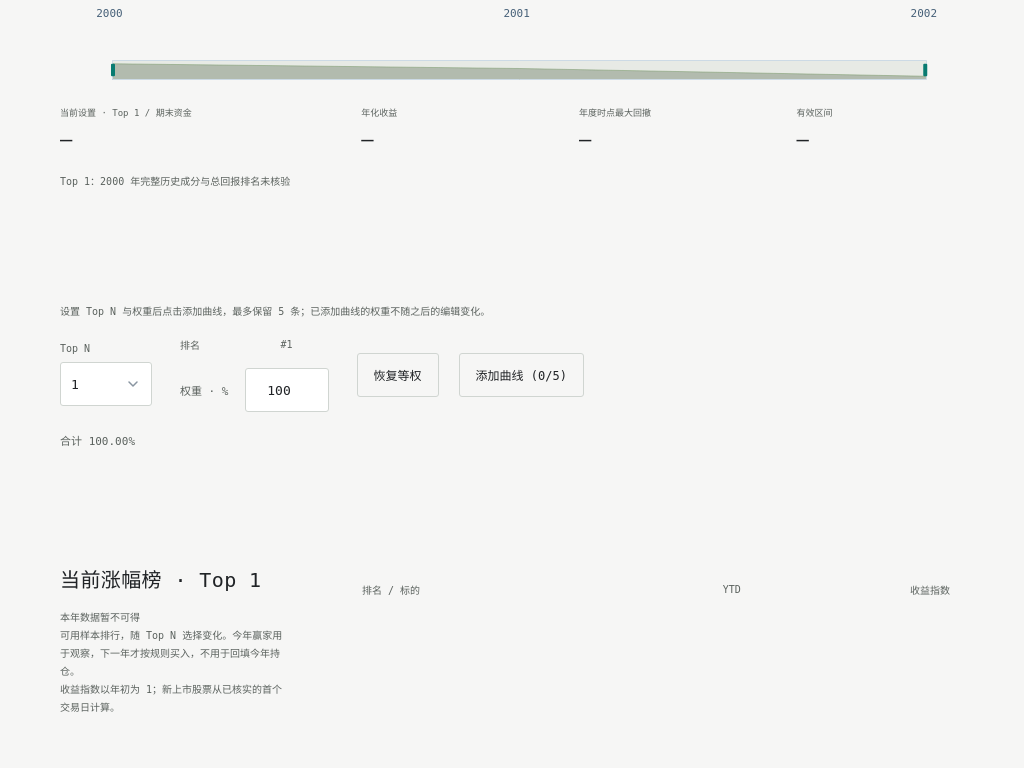
Test: custom Top 7 preserves the fixed Top 1 and Top 3 curves
This screenshot has width=1024, height=768.
(page scrolled)
Select "7" in the dropdown labelled "Top N" at {"x": 106, "y": 384}, box top-left (60, 362), bottom-right (152, 406)
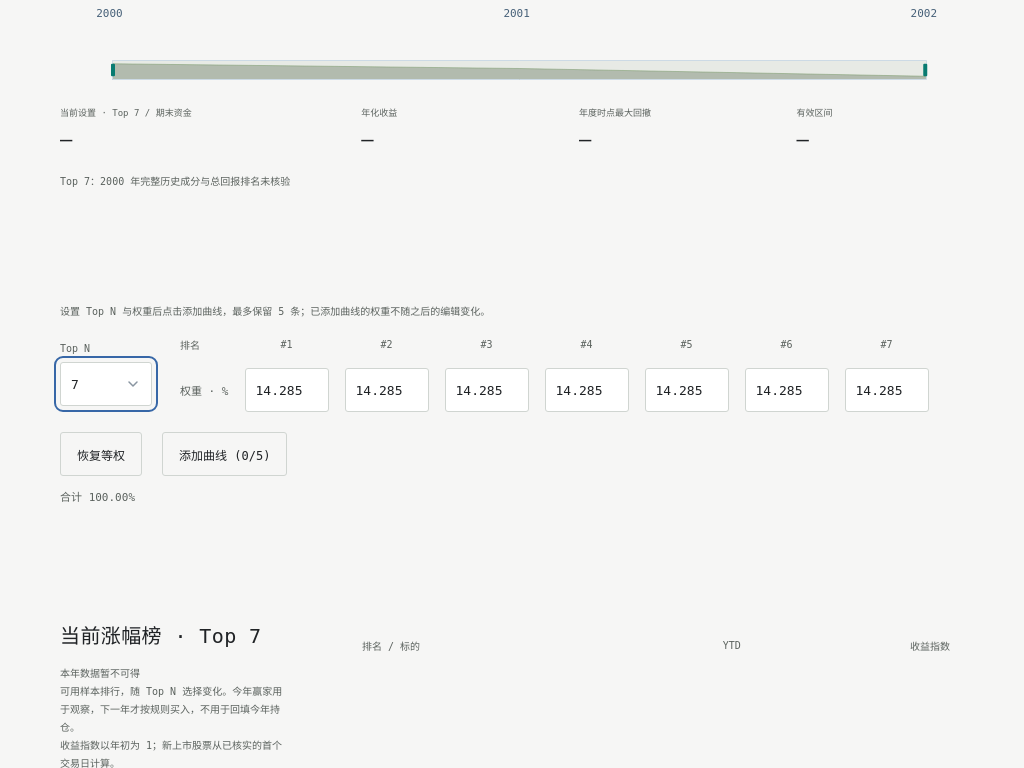
Expected: the element with class "legend" does not show "Top 7"
Click the button "添加曲线 (0/5)" at {"x": 225, "y": 454}, box top-left (162, 432), bottom-right (287, 476)
(page scrolled)
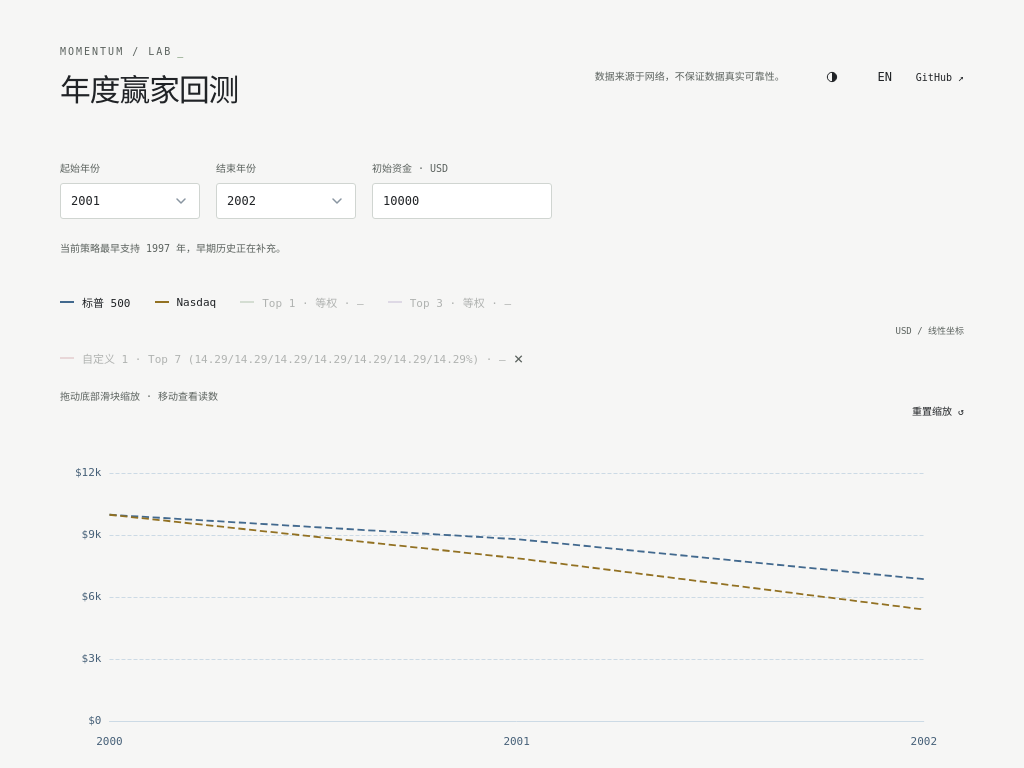
Expected: the element with class "legend" shows "Top 1", top-left (240, 280), bottom-right (364, 324)
Expected: the element with class "legend" shows "Top 7", top-left (60, 336), bottom-right (506, 380)
